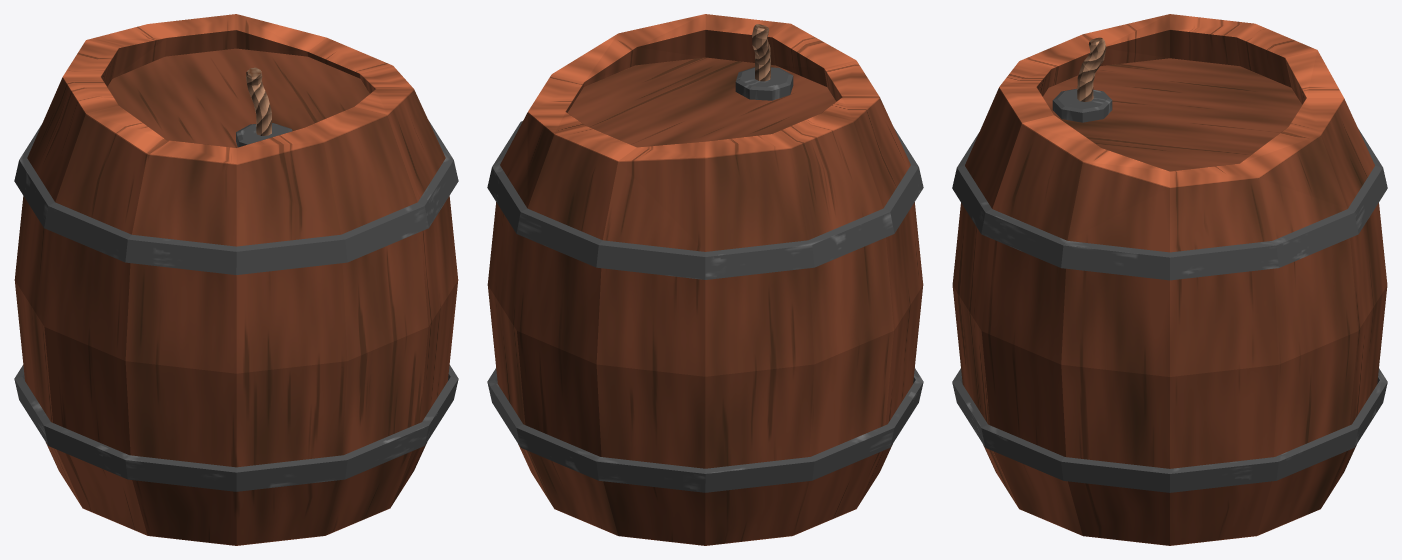
File: gbarrel.fbx
3 renders of one model, left to right at view 1: azimuth 30°, elevation 25°; view 2: azimuth 150°, elevation 25°; view 3: azimuth 270°, elevation 25°, orthographic.
Parts seen in each view (by area): view 1: gbarell1024; view 2: gbarell1024; view 3: gbarell1024.
Part boxes in pixels (x1,y1,x2,y2): gbarell1024: (14,14,458,545); gbarell1024: (487,14,923,545); gbarell1024: (952,14,1387,545).
Size of the model in its own units: 2.71 by 2.91 by 2.71.
